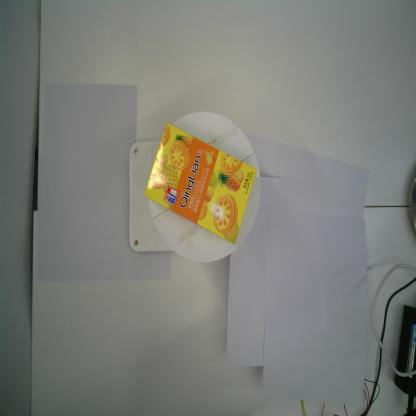Dessert: (144, 122, 257, 244)
